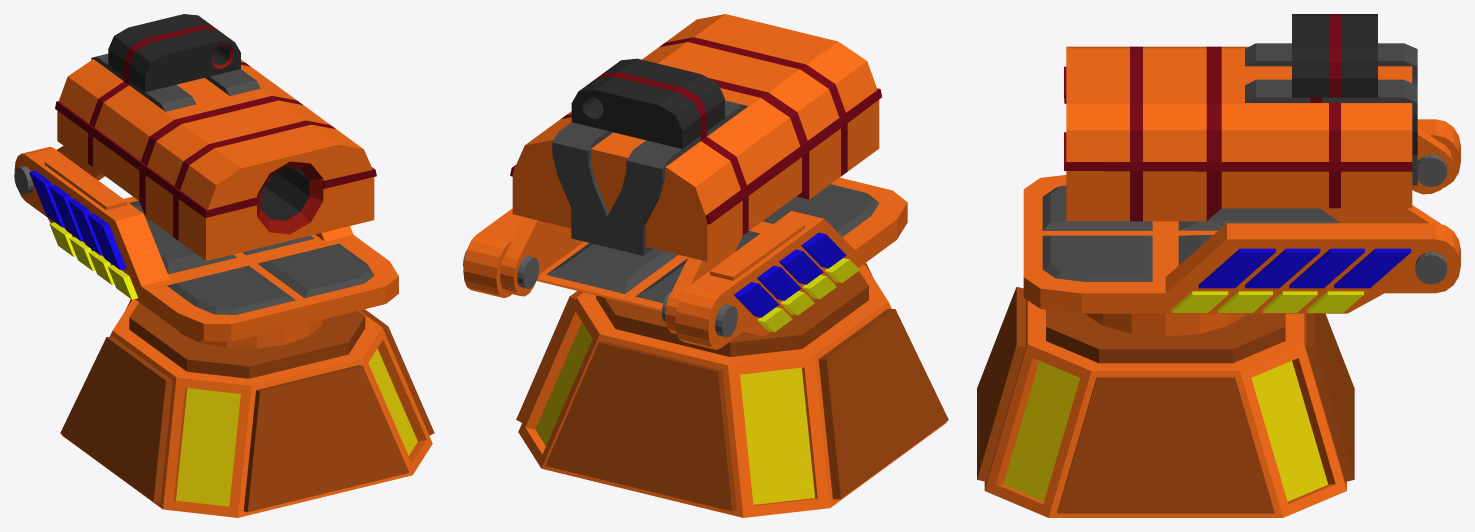
File: MissileLauncher.fbx
3 views of the same model, side by side, from view 1: azimuth 30°, elevation 25°; view 2: azimuth 150°, elevation 25°; view 3: azimuth 270°, elevation 25° (orthographic). The views are drawn at different scales.
Visible parts, largest first — view 1: Gun_22.007, Cube.004; view 2: Gun_22.007, Cube.004; view 3: Gun_22.007, Cube.004.
Boxes of the visible parts, x1,y1,x2,y2 form: Gun_22.007: (14, 14, 398, 348); Cube.004: (60, 299, 434, 517); Gun_22.007: (463, 14, 907, 349); Cube.004: (516, 263, 948, 517); Gun_22.007: (1023, 14, 1460, 336); Cube.004: (977, 287, 1354, 517).
Size of the model in its own units: 253 by 303 by 325.
